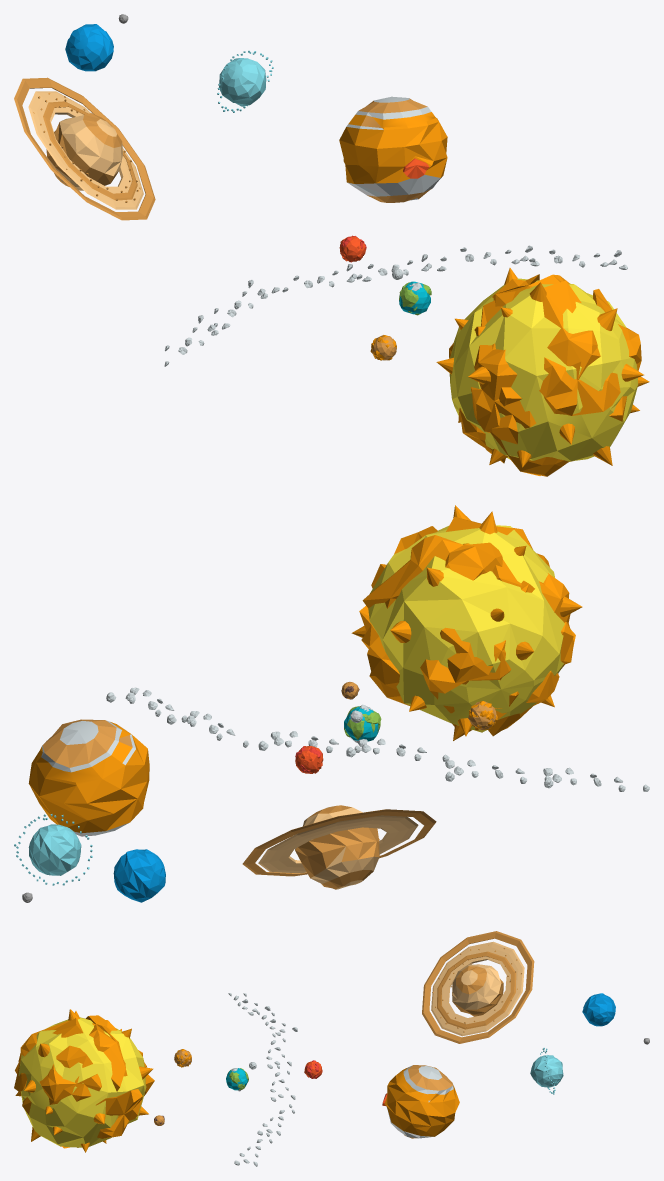
File: space.fbx
3 views of the same model, one above another, from view 1: azimuth 30°, elevation 25°; view 2: azimuth 150°, elevation 25°; view 3: azimuth 270°, elevation 25° (orthographic). The views are drawn at different scales.
Visible parts, largest first — view 1: model; view 2: model; view 3: model.
Part boxes in pixels (box(x1,y1,x2,y2)): model: box(14, 14, 649, 476); model: box(14, 505, 649, 902); model: box(14, 931, 649, 1166).
Size of the model in its own units: 51.86 by 20.96 by 87.52.
